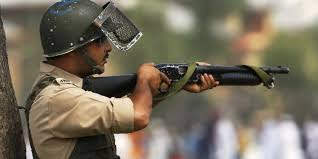gun: (84, 61, 302, 110)
uniform: (17, 55, 141, 159)
